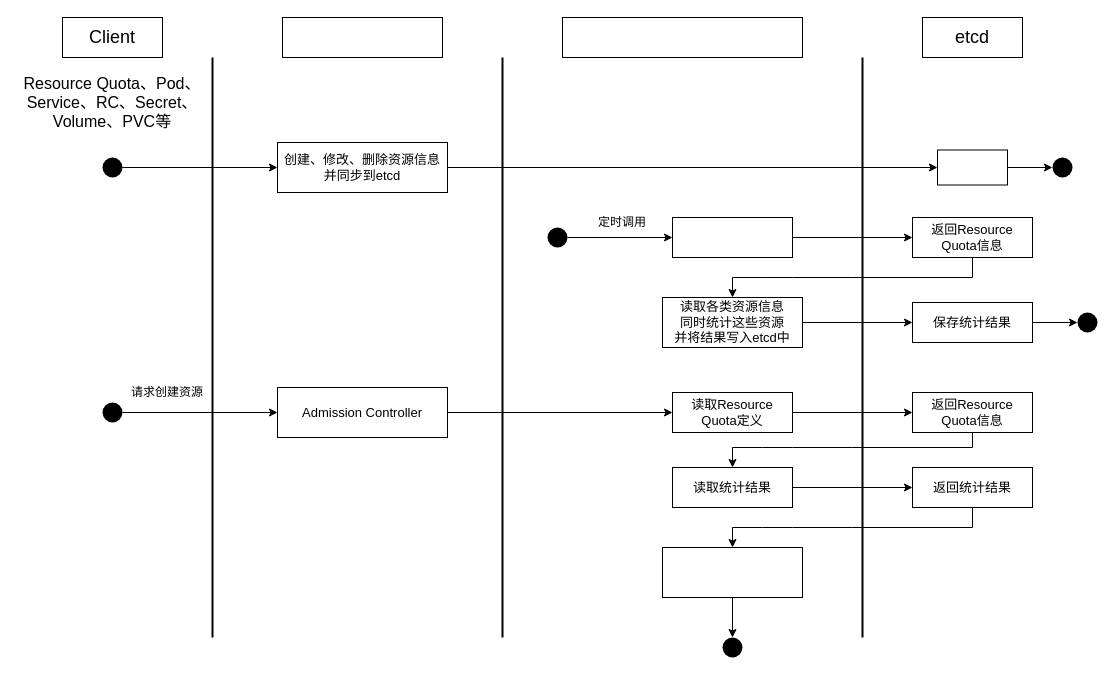
Some shapes in this 1114 by 675 pixel diagram are drawn without their labels. The shapes that lost their labels are listed below. From the top down, each one's centre as x and y in pixels, then its label:
At point 362,37: "API Server".
At point 682,37: "ResourceQuota Controller".
At point 972,167: "保存结果".
At point 732,237: "读取Resource Quota资源".
At point 732,572: "判断请求是否合法 并返回结果".
